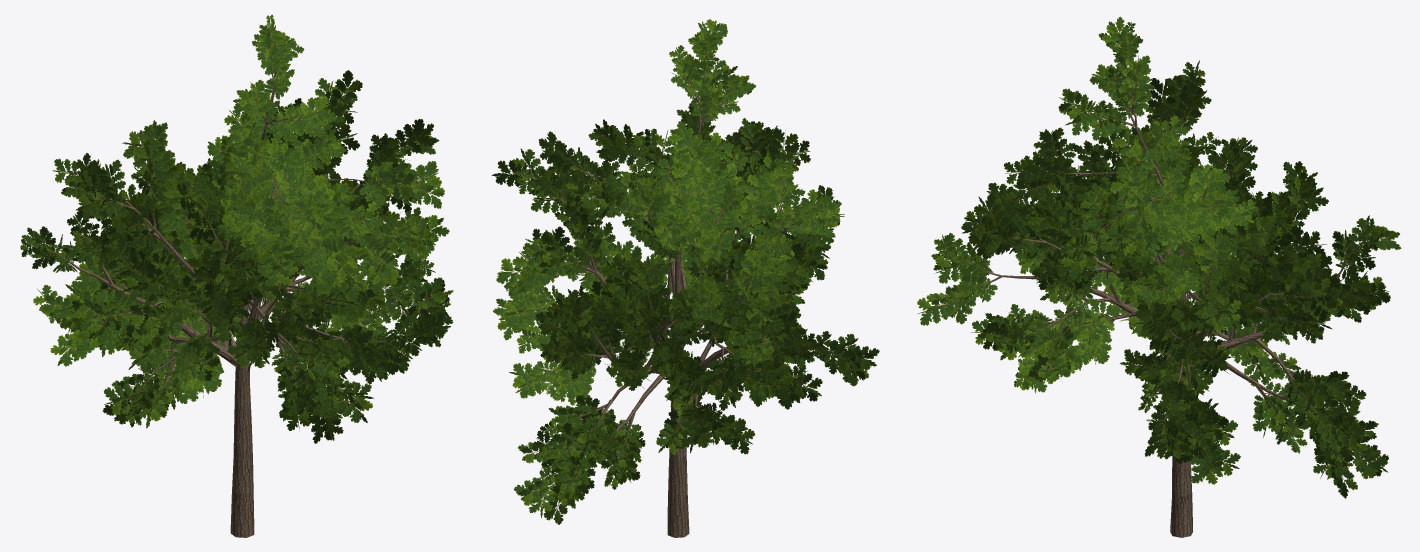
File: tree.glb
3 renders of one model, left to right at view 1: azimuth 30°, elevation 25°; view 2: azimuth 150°, elevation 25°; view 3: azimuth 270°, elevation 25°, orthographic. The views are drawn at different scales.
Parts seen in each view (by area): view 1: tree; view 2: tree; view 3: tree.
Boxes of the visible parts, box(x1,y1,x2,y2) form: tree: box(20, 14, 453, 537); tree: box(491, 19, 879, 537); tree: box(917, 16, 1401, 537).
Size of what is drawn, in the model's own units: 7.62 by 10 by 8.69.
Materials: 2 (2 with a texture image).
